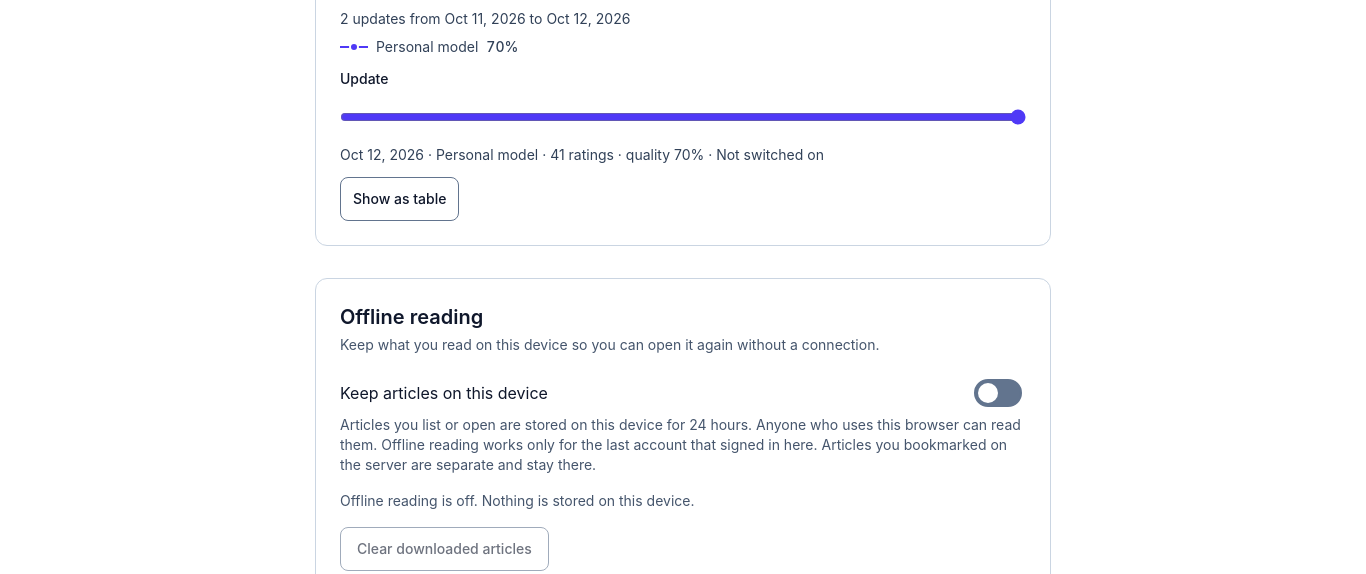
learning curve: the table › shows false historical activation and translates multiple or unknown reasons
(page scrolled)
What coordinates should you click on to do the following:
click the button "Show as table"
I would click on:
 (400, 199)
Its box is 340,177 -> 460,221.
(page scrolled)
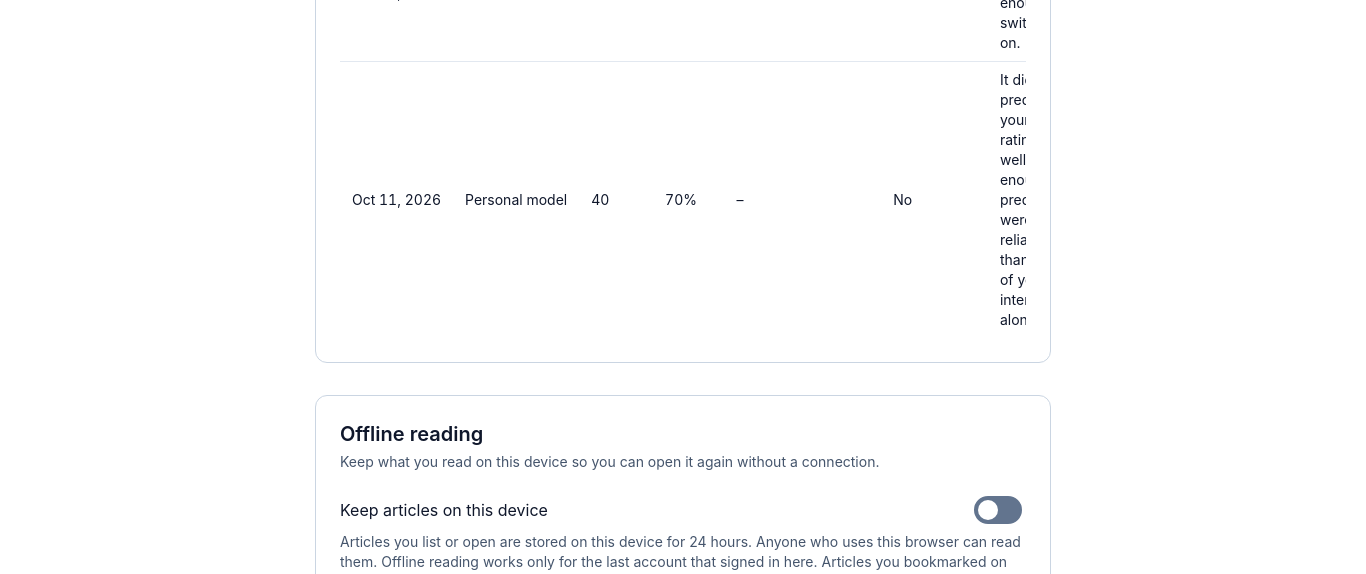
Check: the 2nd cell "No" is shown, box 881,62 -> 988,338
